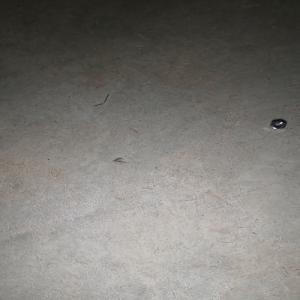Nut: (268, 118, 287, 129)
